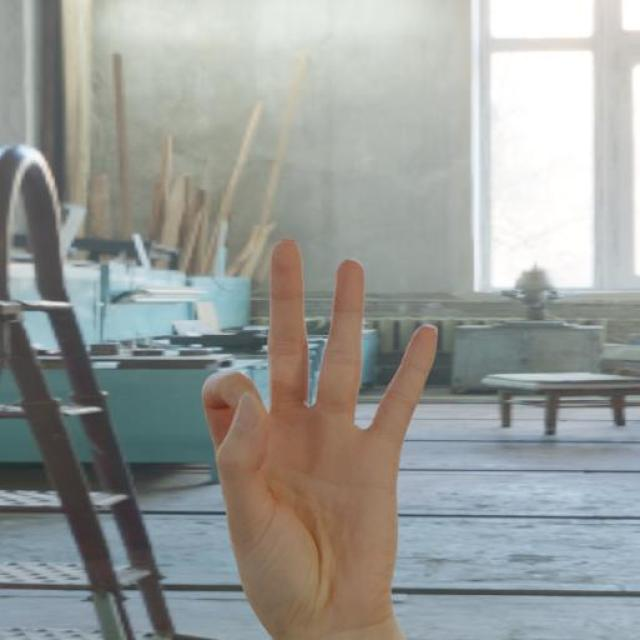F: (200, 237, 442, 636)
